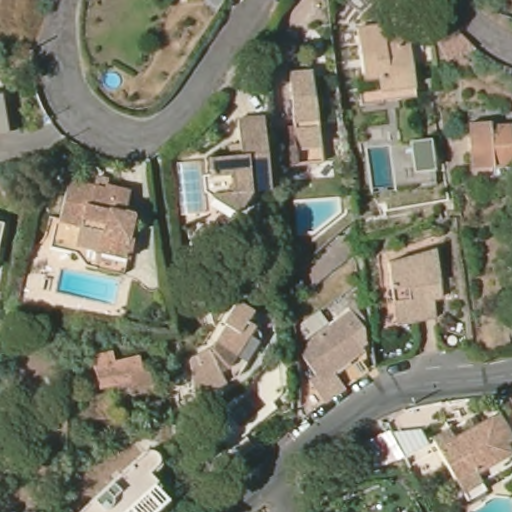pool: (56, 266, 122, 308), (290, 195, 346, 239), (174, 155, 209, 221), (366, 139, 399, 192), (479, 493, 512, 511), (101, 71, 123, 91)
